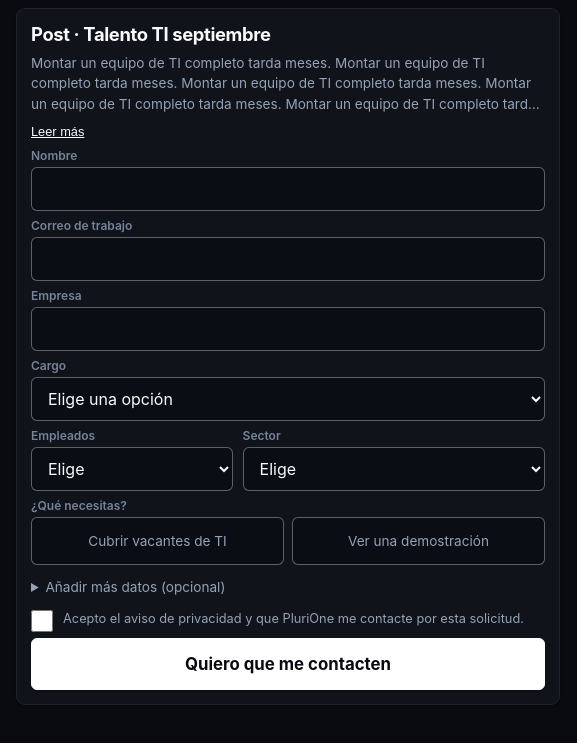
Scenario: lo que enseña › un texto largo se recorta y se despliega con «Leer más»
Expected: the dropdown labelled "Cargo" is shown, [31, 377, 545, 421]
What coordinates should you click on to do the following:
click the button "Leer más"
I would click on:
 (58, 132)
Its box is [31, 122, 84, 141].
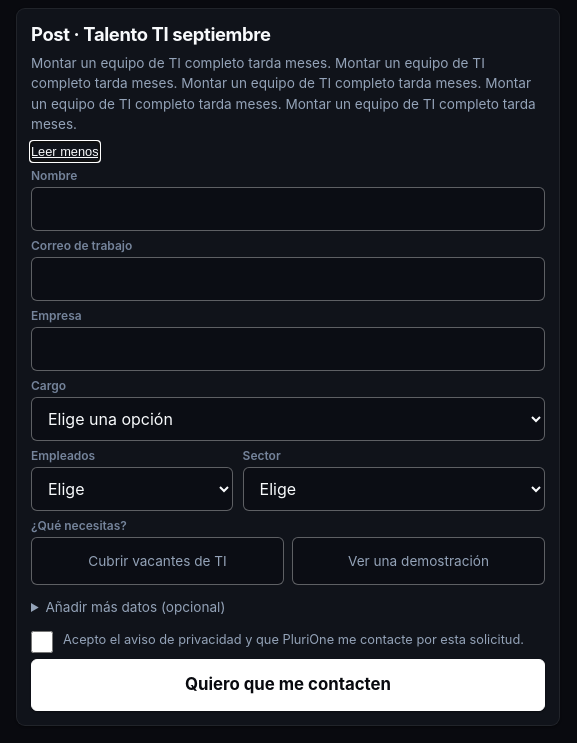
Expected: the button "Leer menos" is expanded, [31, 142, 99, 162]
